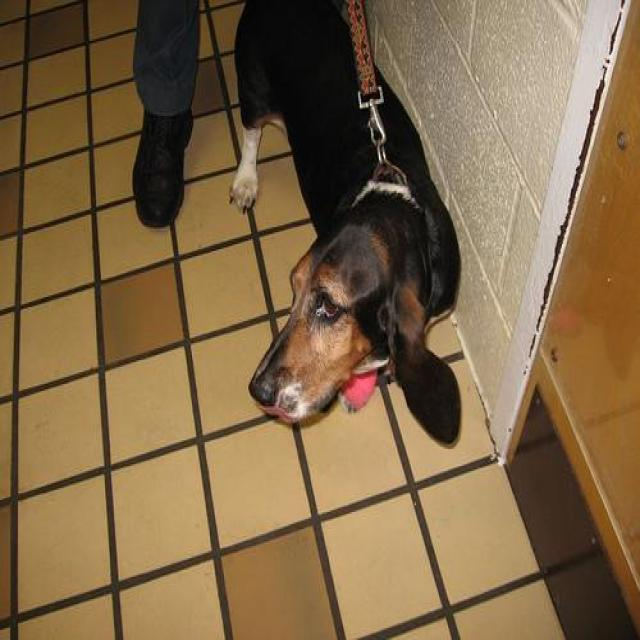basset: (225, 0, 461, 447)
